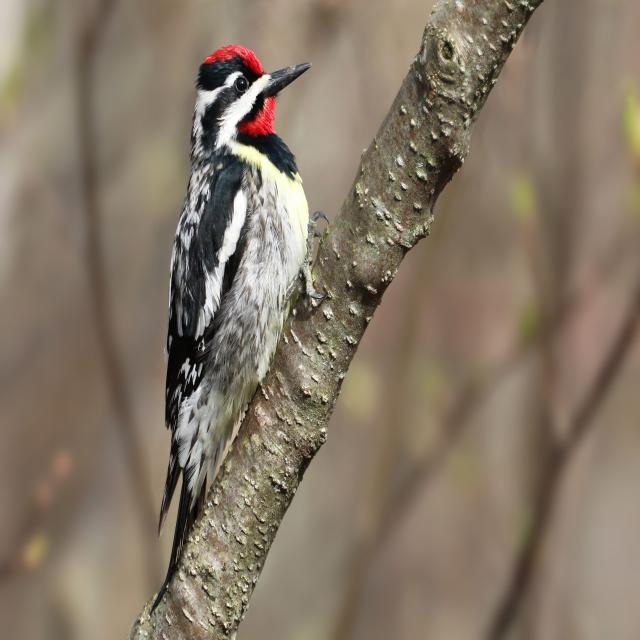Woodpecker: (160, 40, 317, 572)
